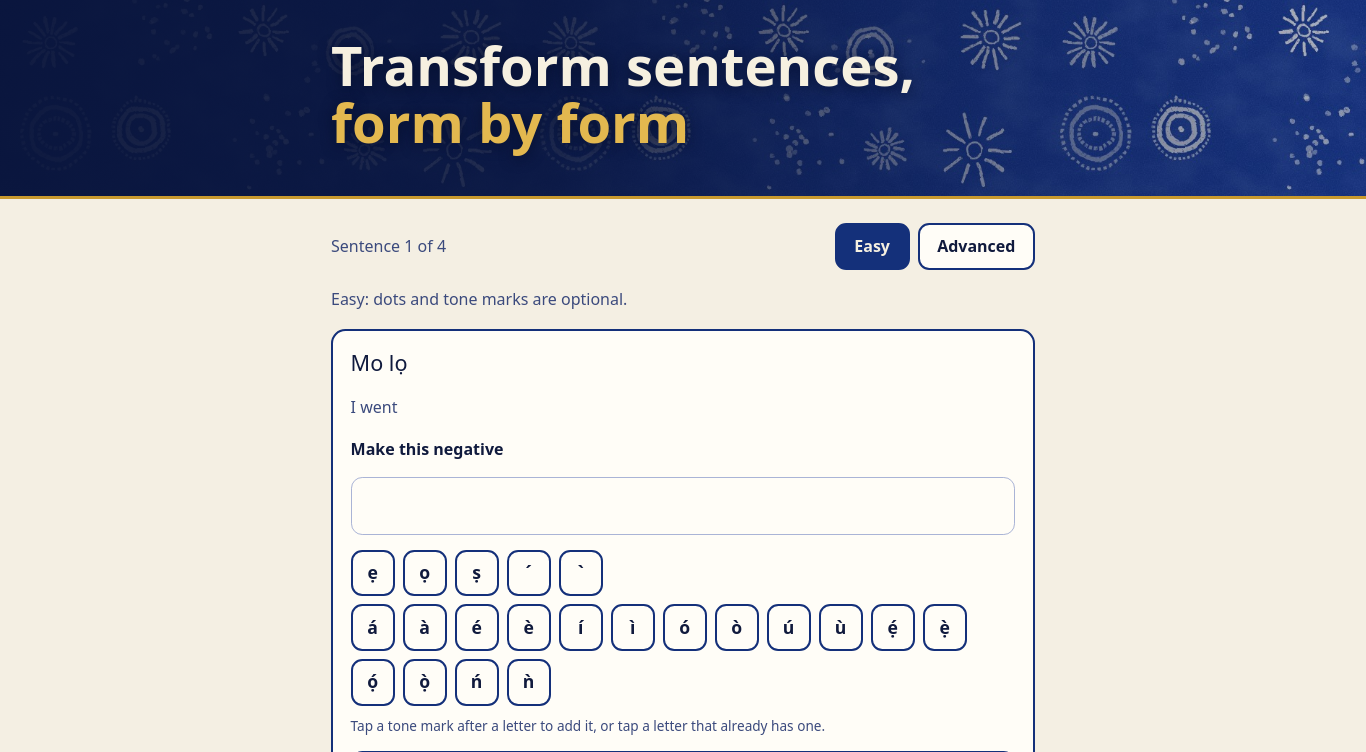
Transform page › shows the instruction for each kind
Click the button "Advanced".
click(976, 247)  # box [918,223,1035,270]
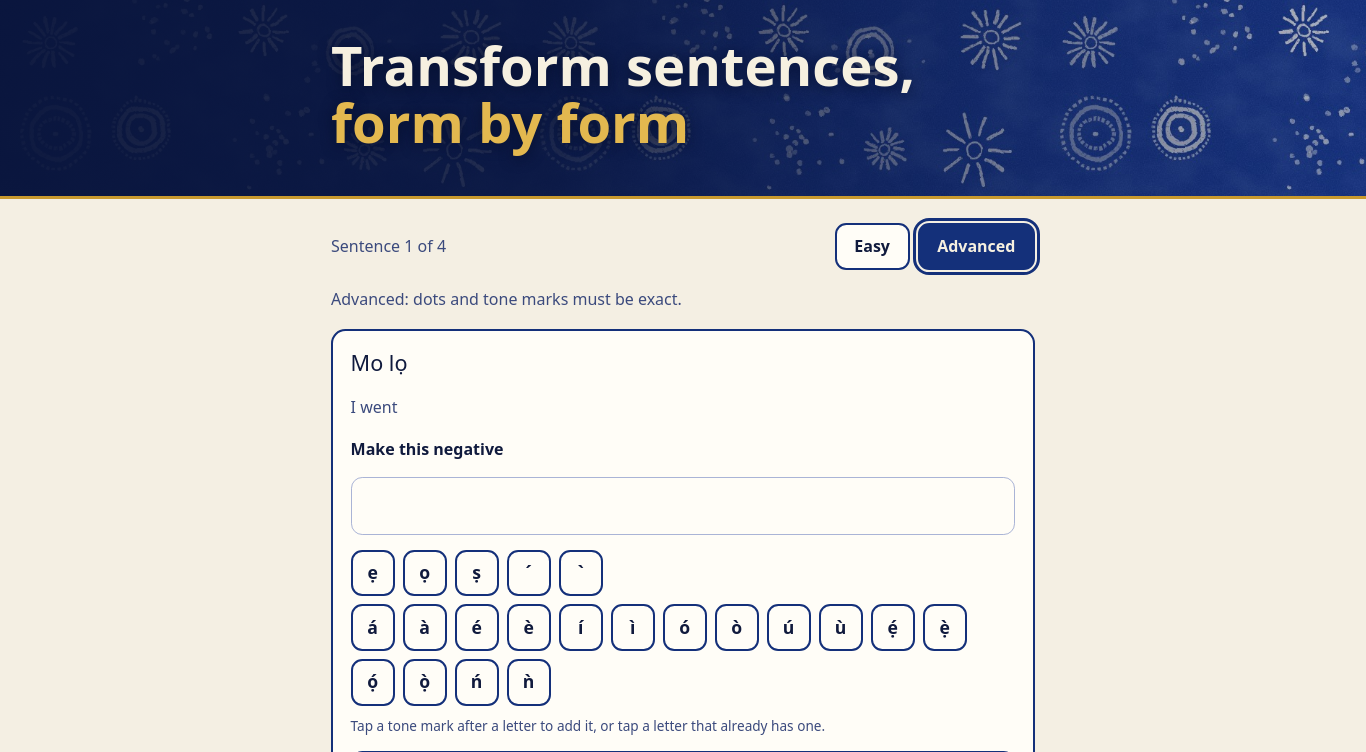
Type "Mi ò lọ" into the field with test id "transform-input".
click(683, 506); type("Mi ò lọ")  # box [351,477,1015,535]
(page scrolled)
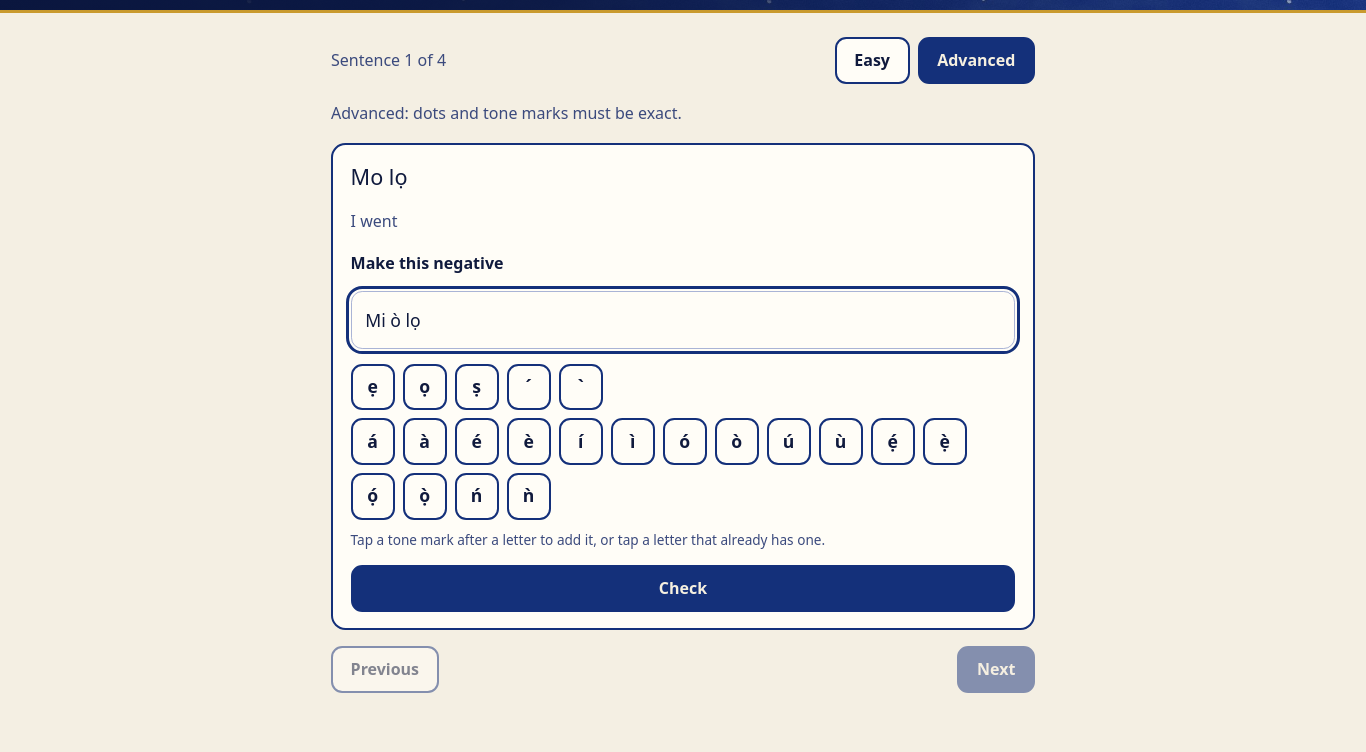
Click the button "Check".
click(683, 589)  # box [351,565,1015,612]
(page scrolled)
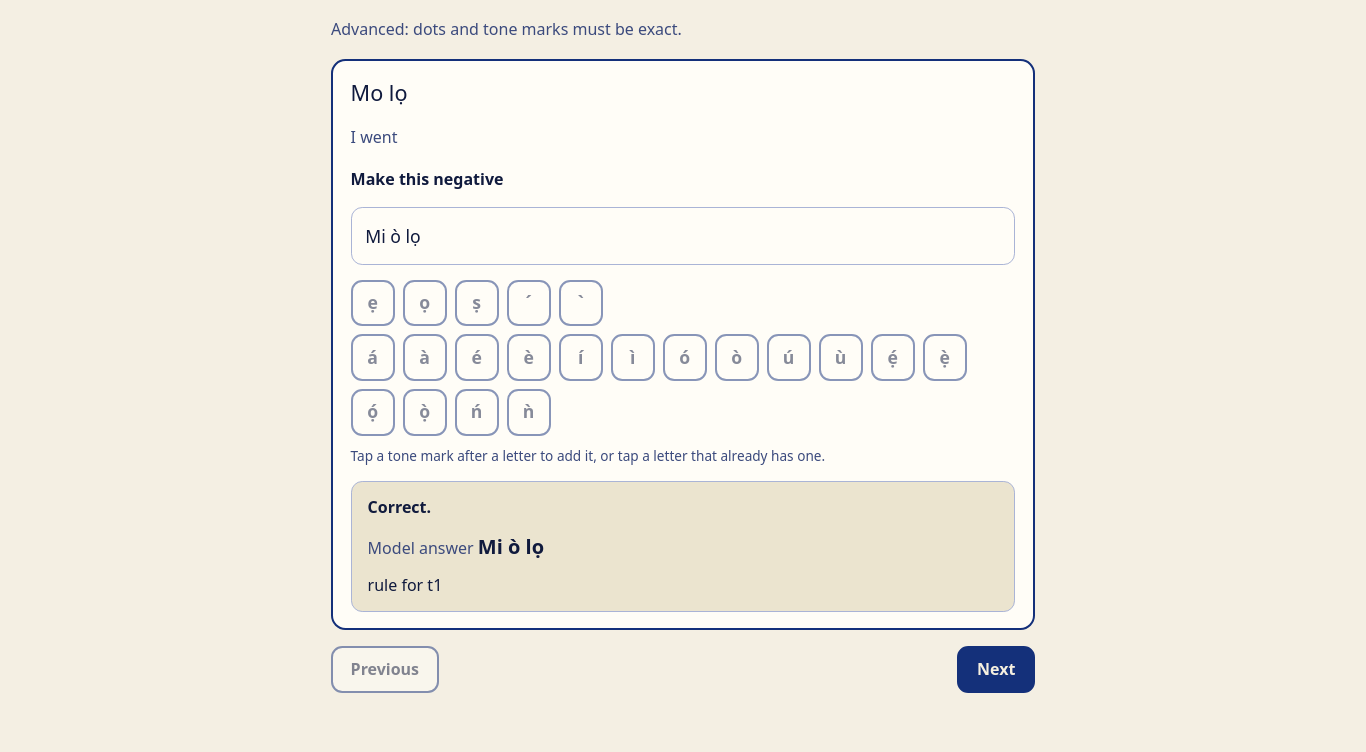
Click the button "Next".
click(996, 670)  # box [958,646,1035,694]
(page scrolled)
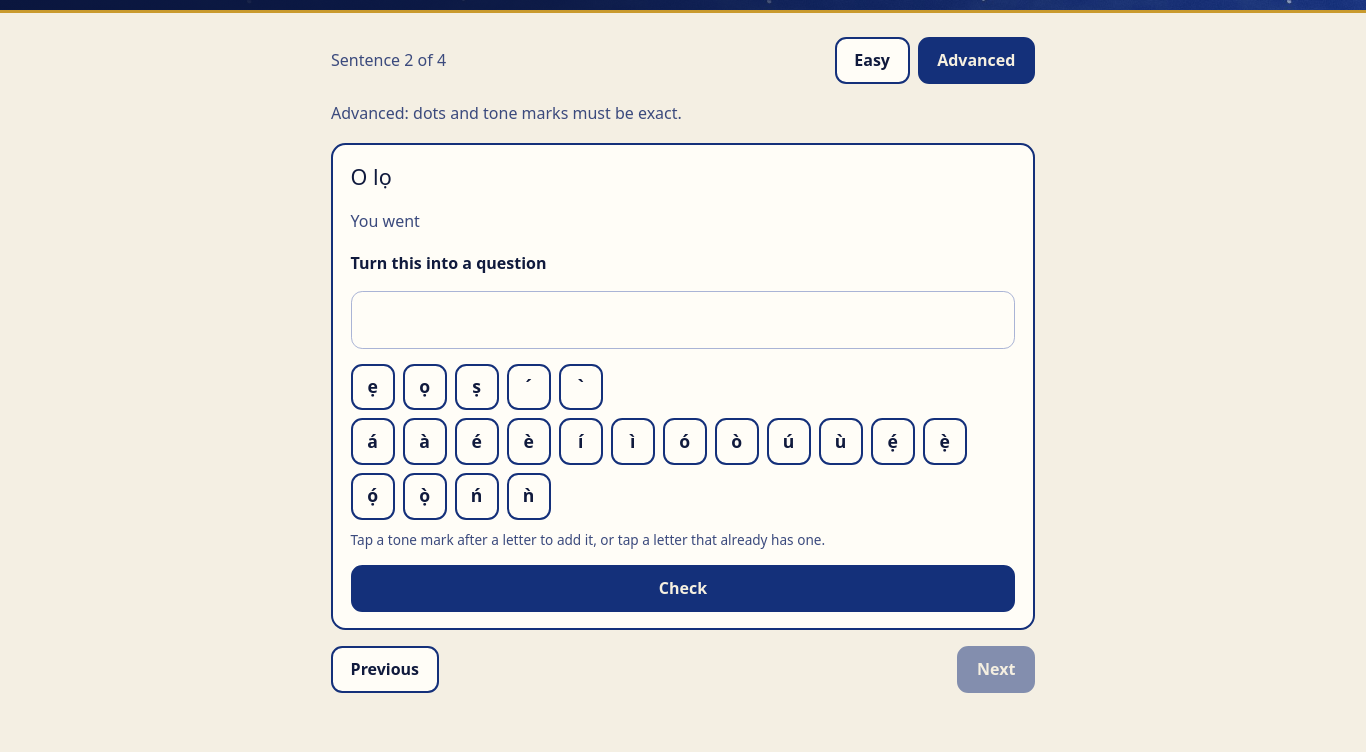
Result: the element with test id "transform-card" shows "Turn this into a question" at [351,252,546,274]
